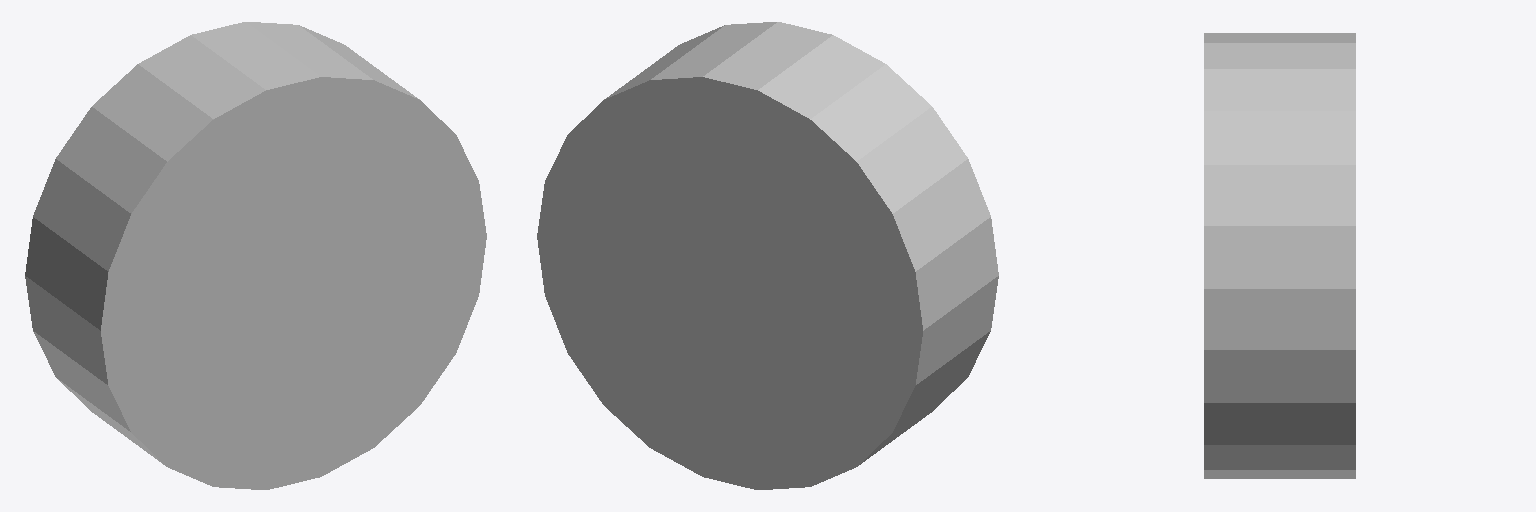
The model's file is tape_cvx.obj.
3 views of the same model, side by side, from view 1: azimuth 30°, elevation 25°; view 2: azimuth 150°, elevation 25°; view 3: azimuth 270°, elevation 25° (orthographic).
Bounding box in the file's own units: 0.25 × 0.2475 × 0.0848.